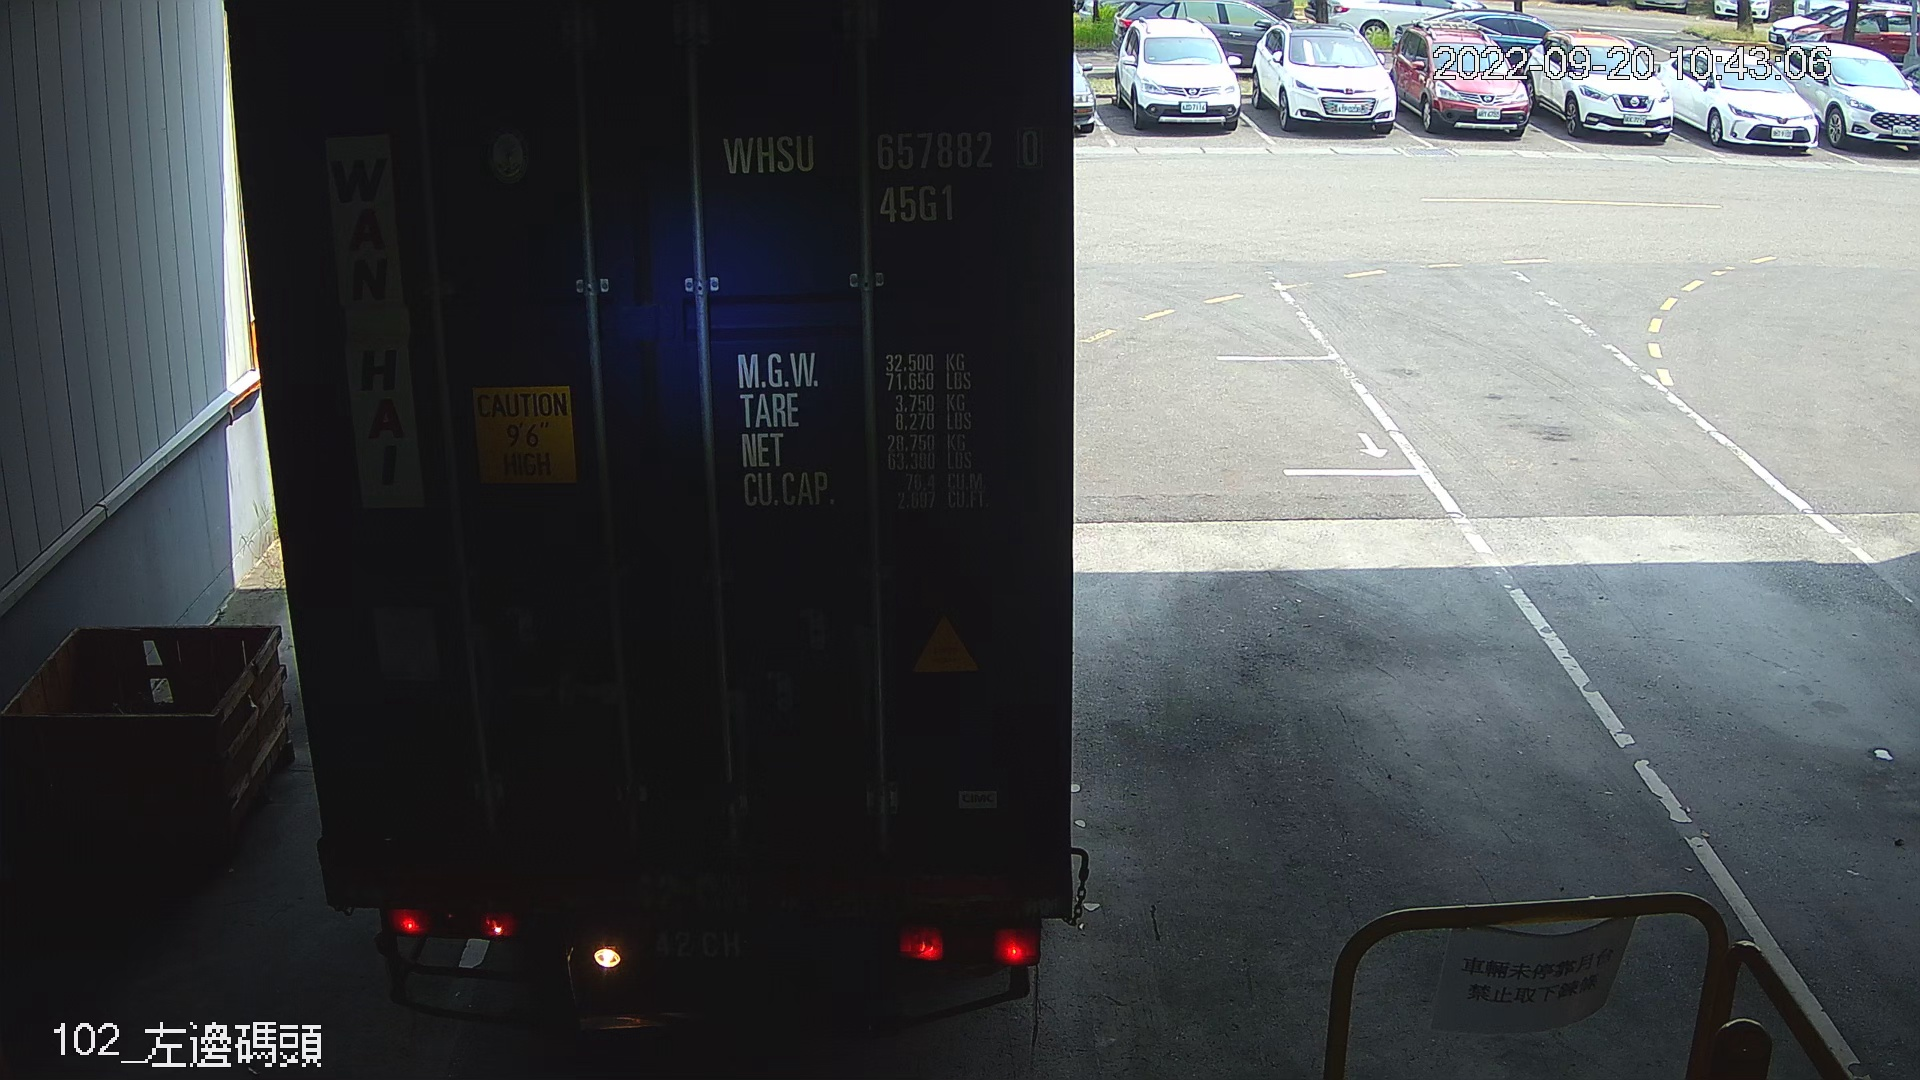container: (709, 116, 1048, 233)
